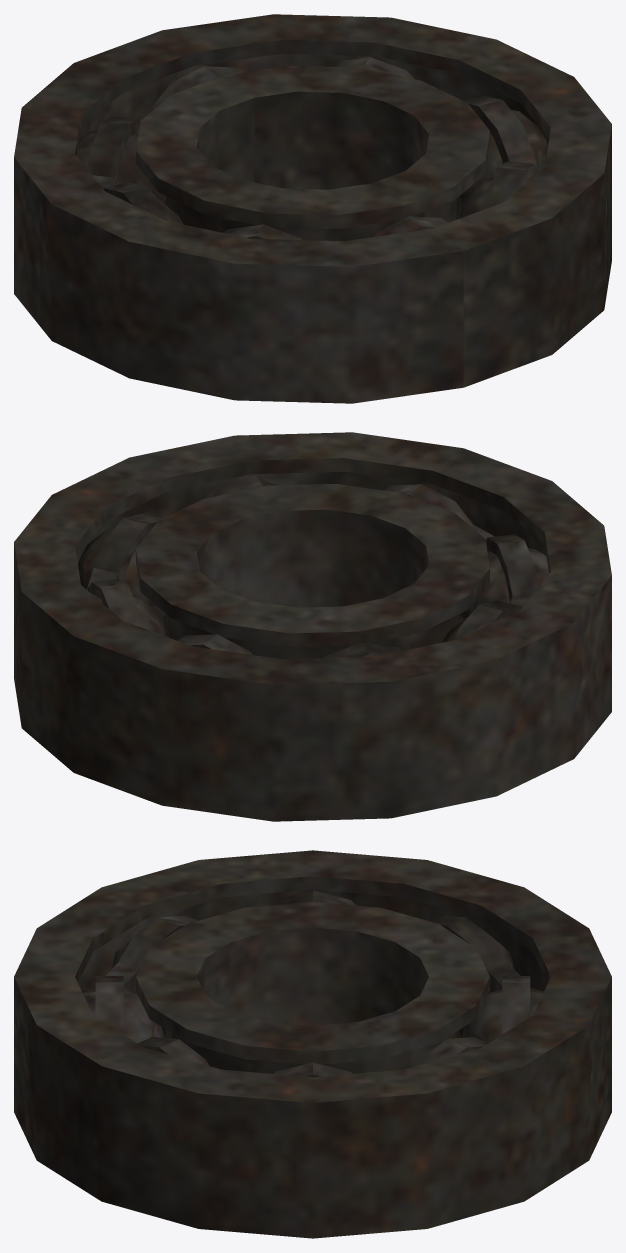
Rendered from ball_bearing_mx_1_2_large.obj.
3 renders of one model, top to bottom at view 1: azimuth 30°, elevation 25°; view 2: azimuth 150°, elevation 25°; view 3: azimuth 270°, elevation 25°, orthographic.
Parts seen in each view (by area): view 1: ball_bearing_mx_1_2_large; view 2: ball_bearing_mx_1_2_large; view 3: ball_bearing_mx_1_2_large.
Boxes of the visible parts, bbox=[...] form: ball_bearing_mx_1_2_large: bbox=[14, 14, 611, 403]; ball_bearing_mx_1_2_large: bbox=[14, 432, 611, 821]; ball_bearing_mx_1_2_large: bbox=[14, 850, 611, 1238].
Bounding box in the file's own units: 0.2 × 0.05 × 0.2.
